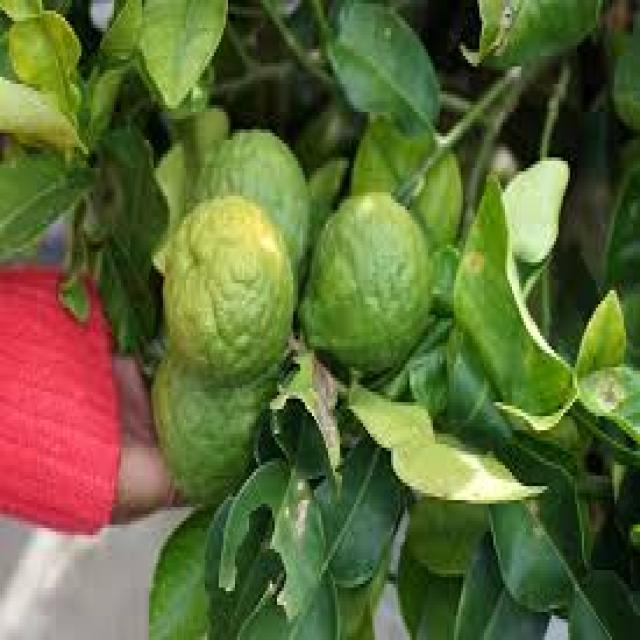Chuc: (160, 192, 296, 385), (298, 189, 433, 374), (186, 126, 312, 294), (149, 346, 279, 507)
